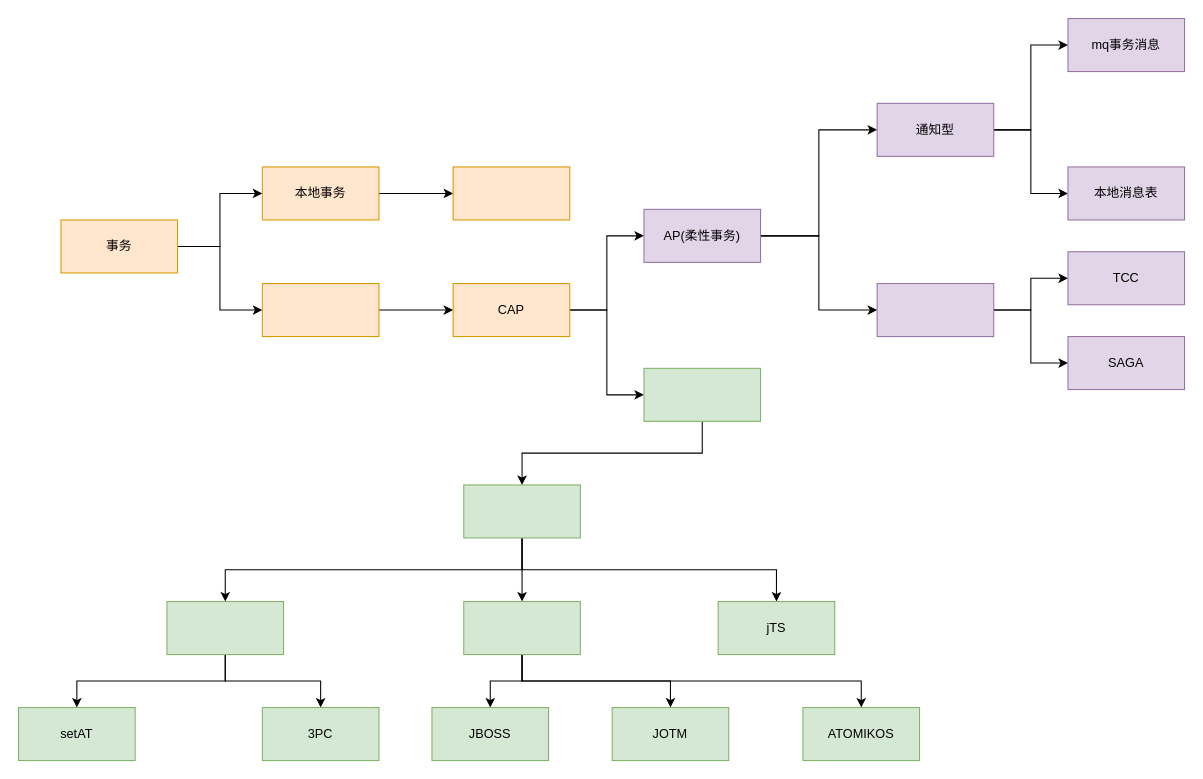
This 1203x779 diagram has some shape labels left out. The shapes that lost their labels are listed below. From the top down, each one's centre as x and y in pixels, then its label:
At point (511, 193): "ACID".
At point (320, 309): "分布式事务".
At point (935, 309): "补偿型".
At point (702, 394): "CP（刚性事务）".
At point (521, 511): "X/OPEN协议".
At point (225, 627): "2PC".
At point (521, 627): "JTA".
